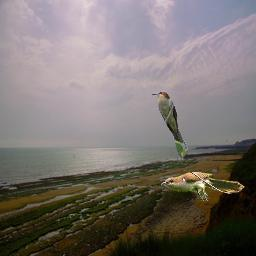Cuckoo: (152, 91, 188, 160), (161, 172, 245, 201)
